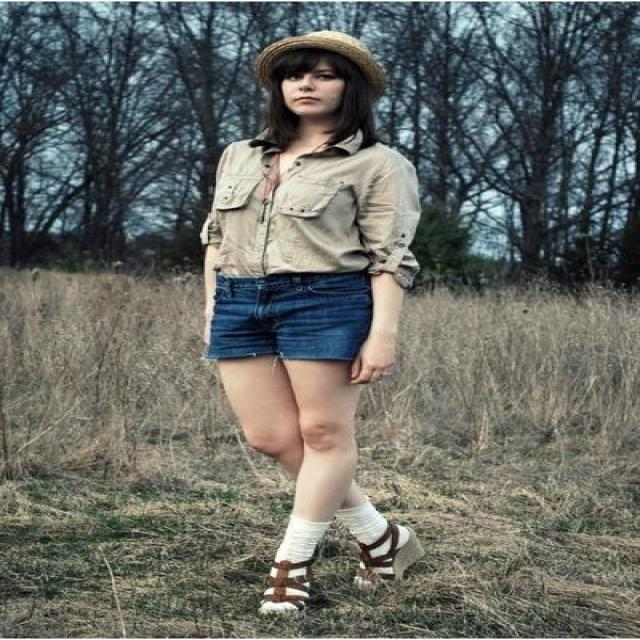hat: (221, 13, 395, 79)
shirt: (200, 140, 421, 319)
shoe: (249, 529, 402, 639)
shorts: (206, 271, 373, 370)
